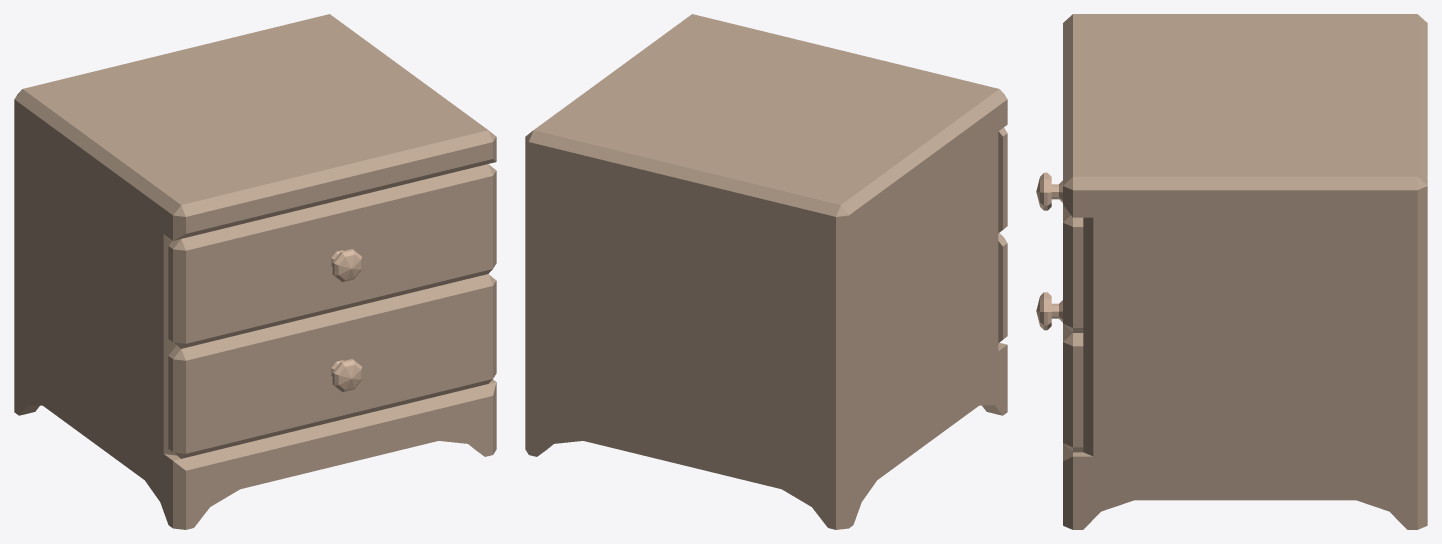
The model's file is Prop_Bedroom_Dresser_Single.fbx.
3 views of the same model, side by side, from view 1: azimuth 30°, elevation 25°; view 2: azimuth 150°, elevation 25°; view 3: azimuth 270°, elevation 25° (orthographic). The views are drawn at different scales.
Visible parts, largest first — view 1: object3.006, object2.008, object1.011; view 2: object3.006, object2.008, object1.011; view 3: object3.006, object2.008, object1.011.
Part boxes in pixels (box(x1,y1,x2,y2)): object3.006: box(14, 14, 496, 529); object2.008: box(168, 274, 496, 458); object1.011: box(168, 164, 496, 348); object3.006: box(525, 14, 1007, 529); object2.008: box(998, 233, 1007, 343); object1.011: box(998, 127, 1007, 233); object3.006: box(1063, 14, 1427, 529); object2.008: box(1036, 292, 1083, 452); object1.011: box(1036, 172, 1083, 332).
Size of the model in its own units: 100 by 95 by 96.56.
